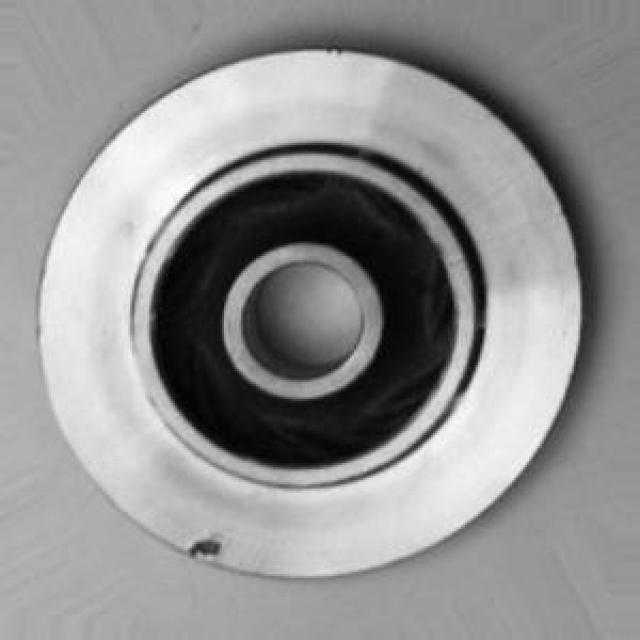Defect: (180, 519, 233, 570)
